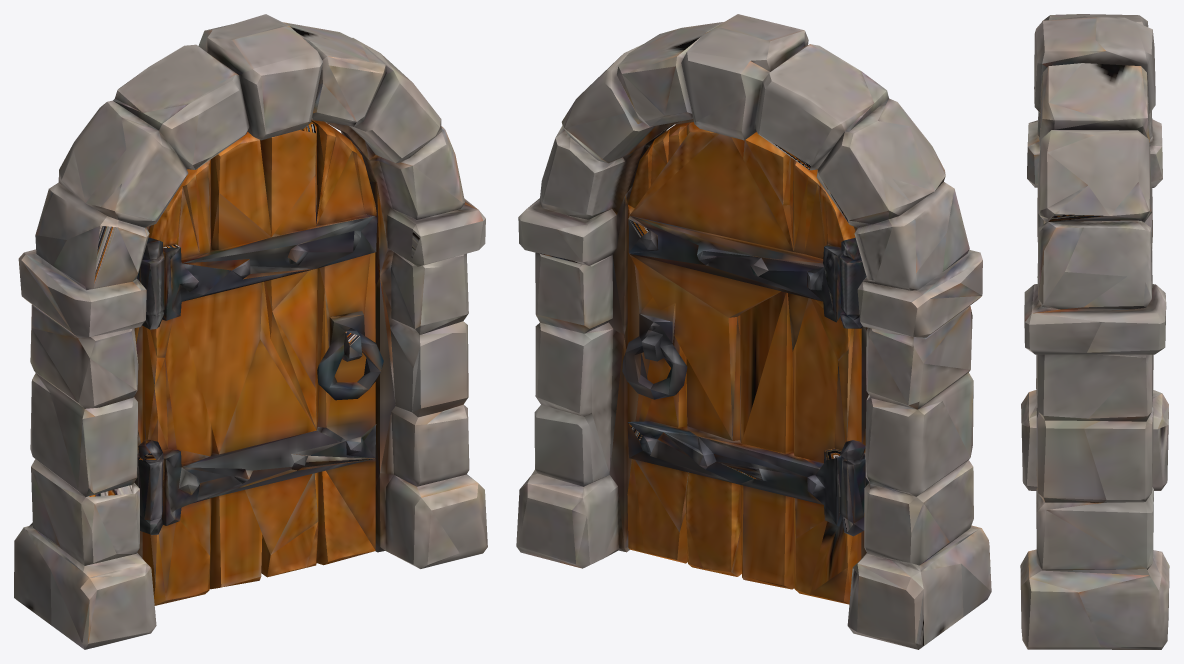
The model's file is dungeon-door.low.glb.
The picture shows the model from 3 angles, left to right: view 1: azimuth 30°, elevation 25°; view 2: azimuth 150°, elevation 25°; view 3: azimuth 270°, elevation 25°; orthographic projection. The views are drawn at different scales.
Visible parts, largest first — view 1: output_unwrapped; view 2: output_unwrapped; view 3: output_unwrapped.
Part boxes in pixels (x1=…): output_unwrapped: x1=14, y1=14, x2=487, y2=649; output_unwrapped: x1=516, y1=14, x2=991, y2=649; output_unwrapped: x1=1020, y1=14, x2=1169, y2=649.
Size of the model in its own units: 1.5 by 1.9 by 0.4843.
Materials: 1 (1 with a texture image).
